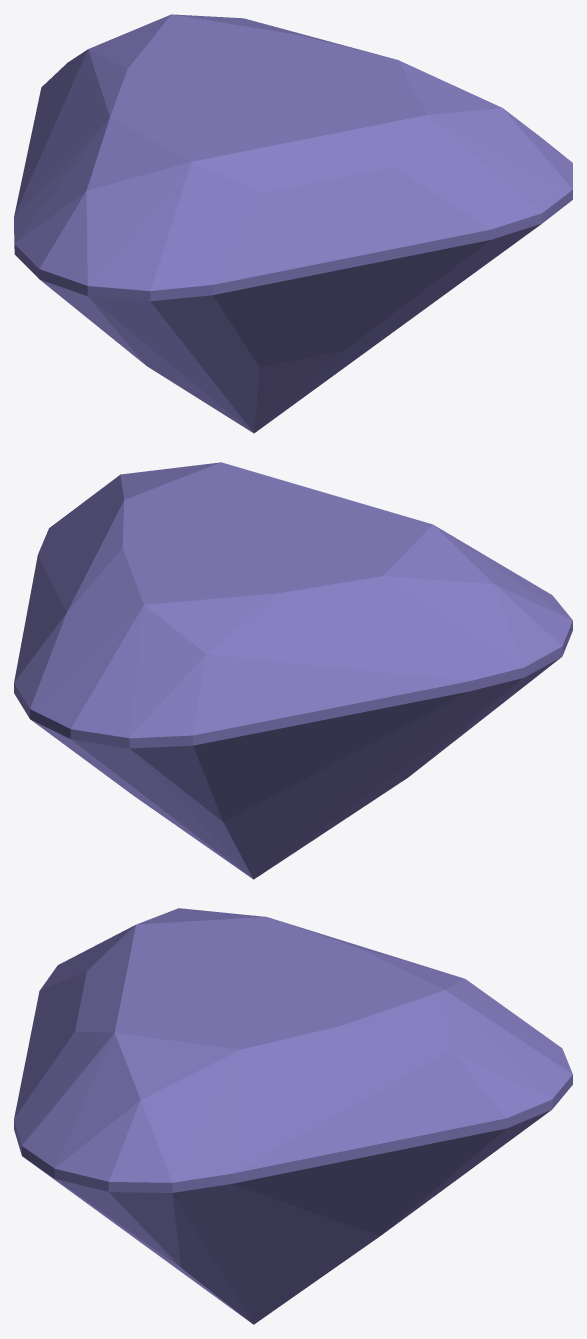
The model's file is stone-tanzanite.glb.
The picture shows the model from 3 angles, top to bottom: view 1: azimuth 30°, elevation 25°; view 2: azimuth 150°, elevation 25°; view 3: azimuth 270°, elevation 25°; orthographic projection.
Parts seen in each view (by area): view 1: Gemstone Tanzanite; view 2: Gemstone Tanzanite; view 3: Gemstone Tanzanite.
Boxes of the visible parts, x1,y1,x2,y2 form: Gemstone Tanzanite: (14,14,572,433); Gemstone Tanzanite: (14,462,572,879); Gemstone Tanzanite: (14,908,572,1324).
Size of the model in its own units: 1.82 by 1.18 by 1.74.
